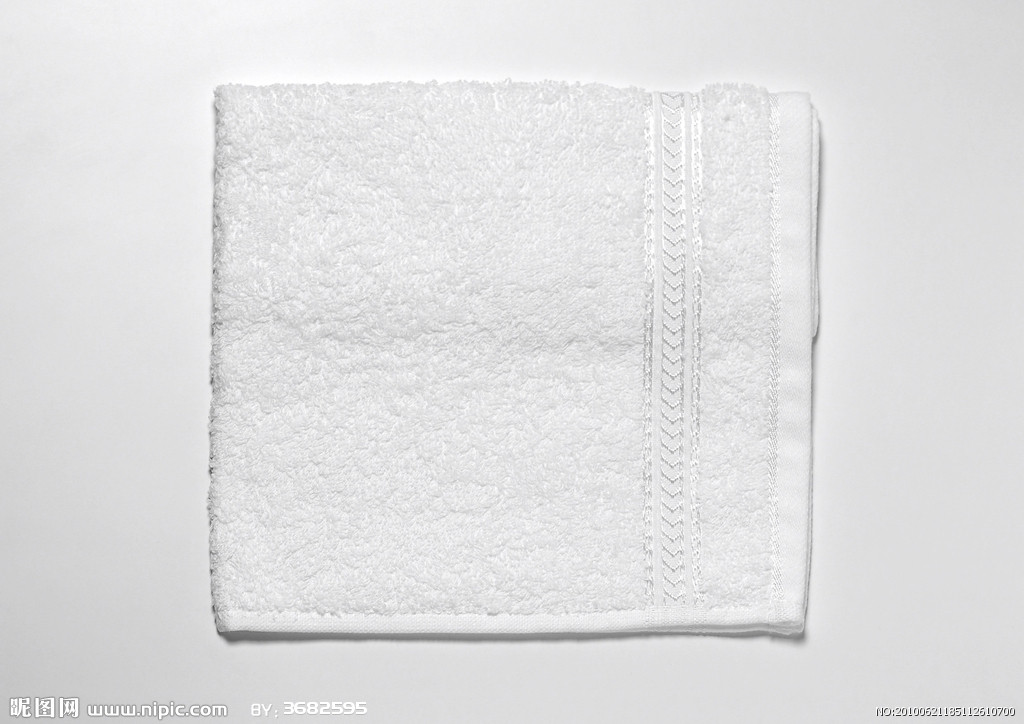flexible: (206, 80, 812, 641)
